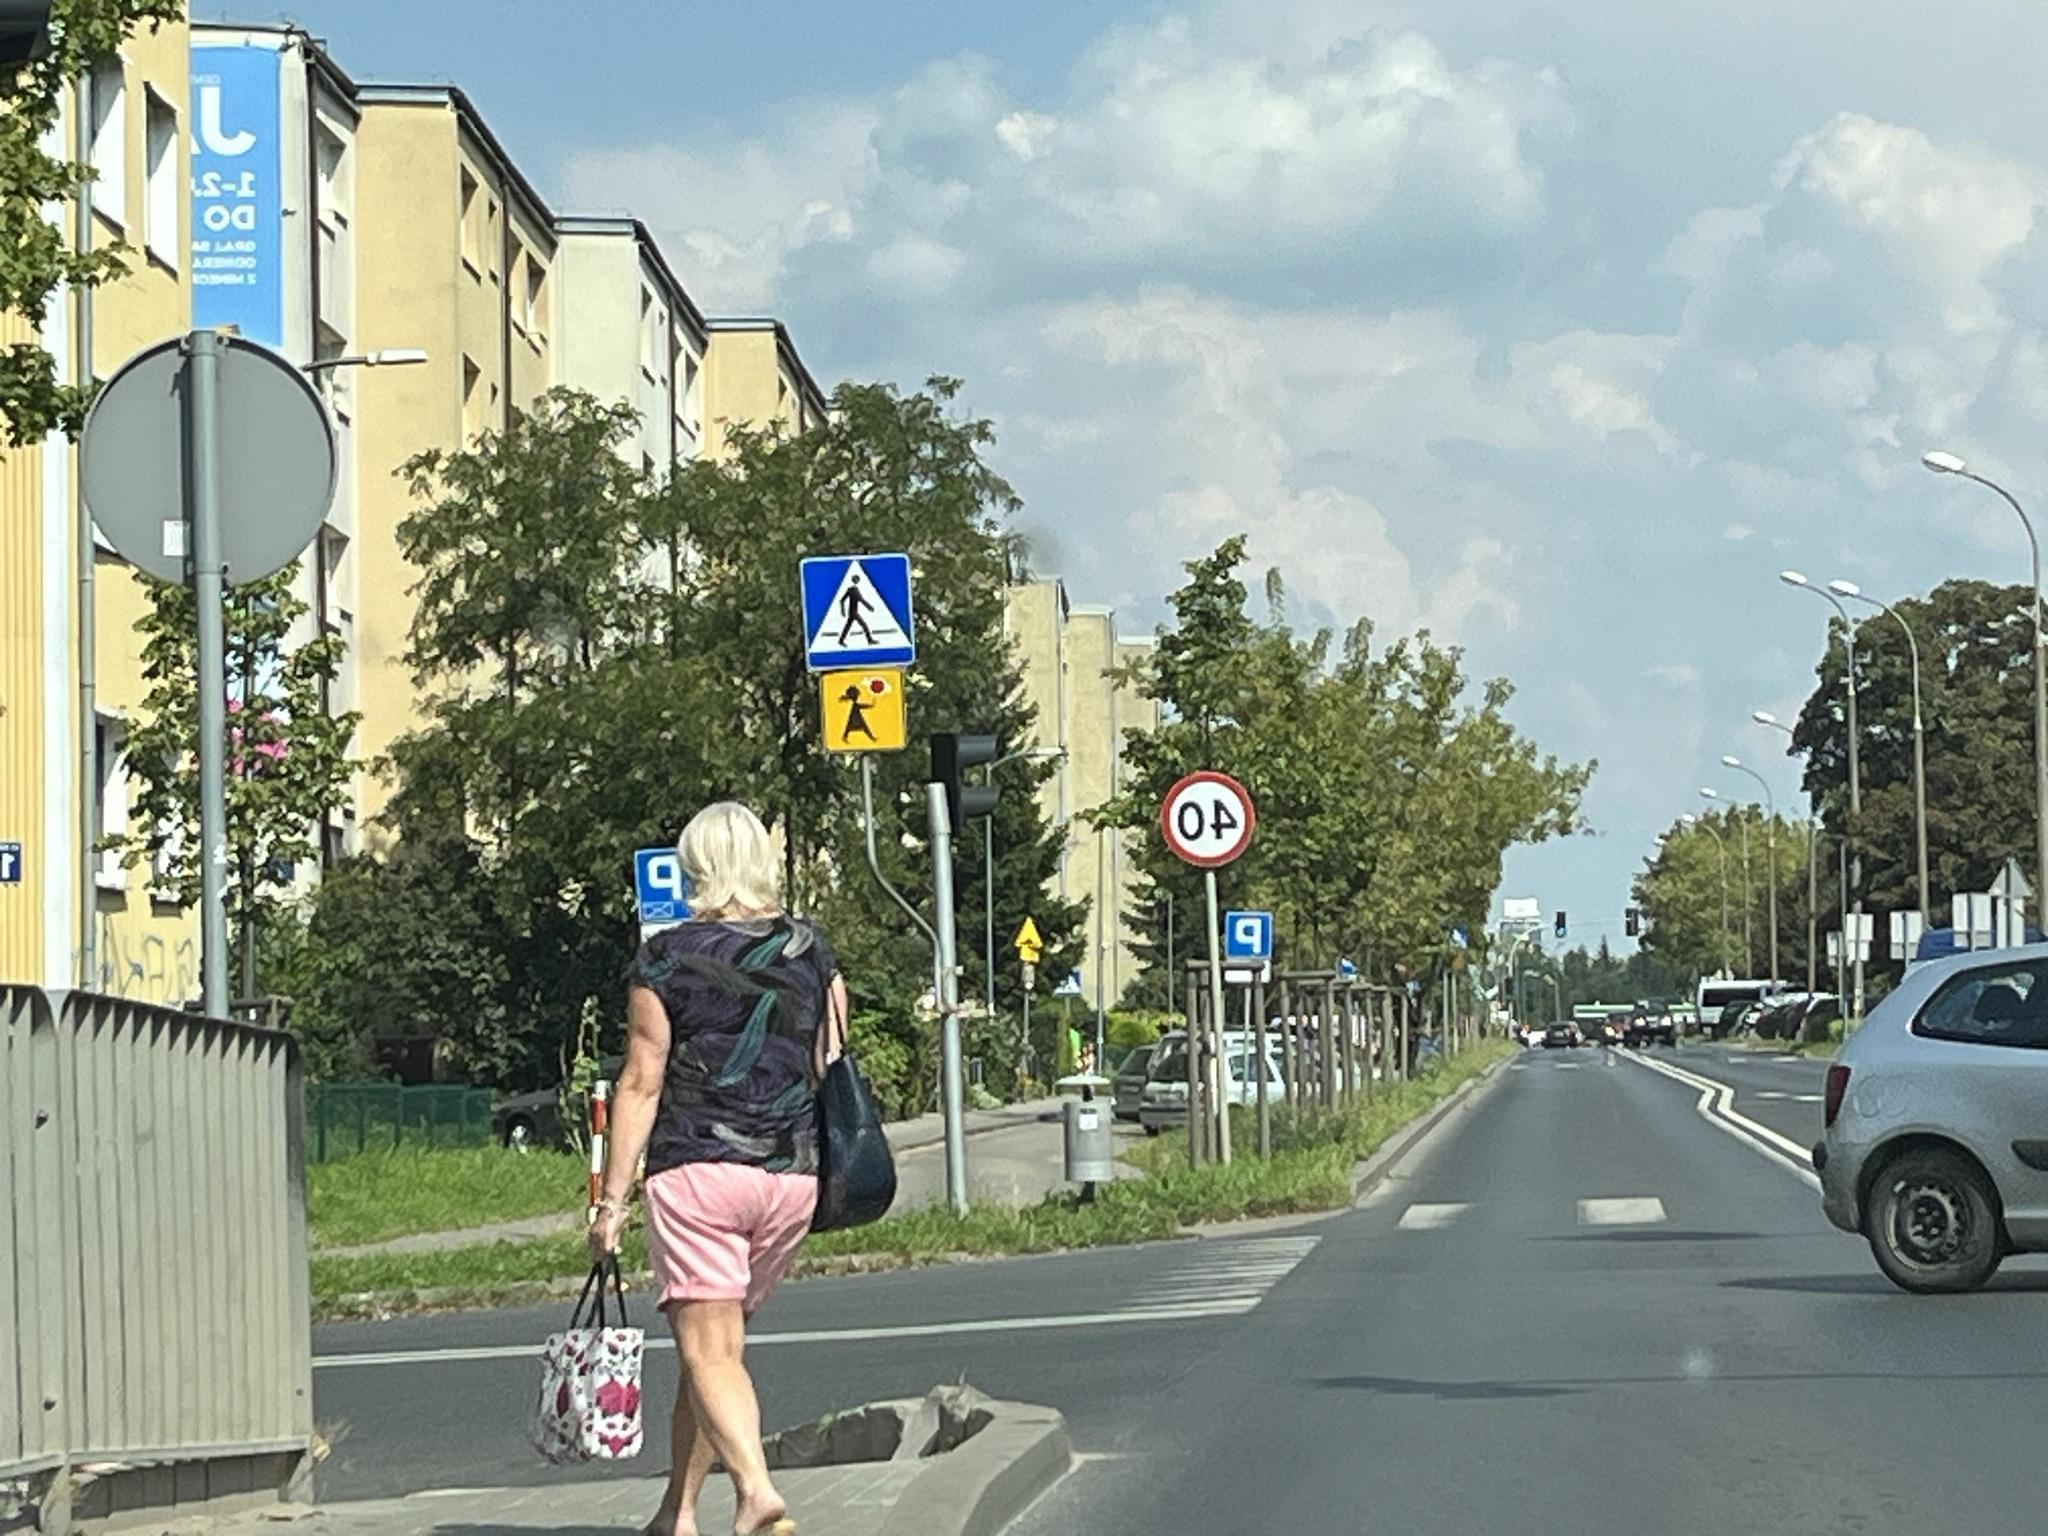information: (803, 555, 910, 670), (1226, 912, 1271, 958)
other: (822, 668, 905, 750)
prohibitory: (1159, 771, 1256, 870)
